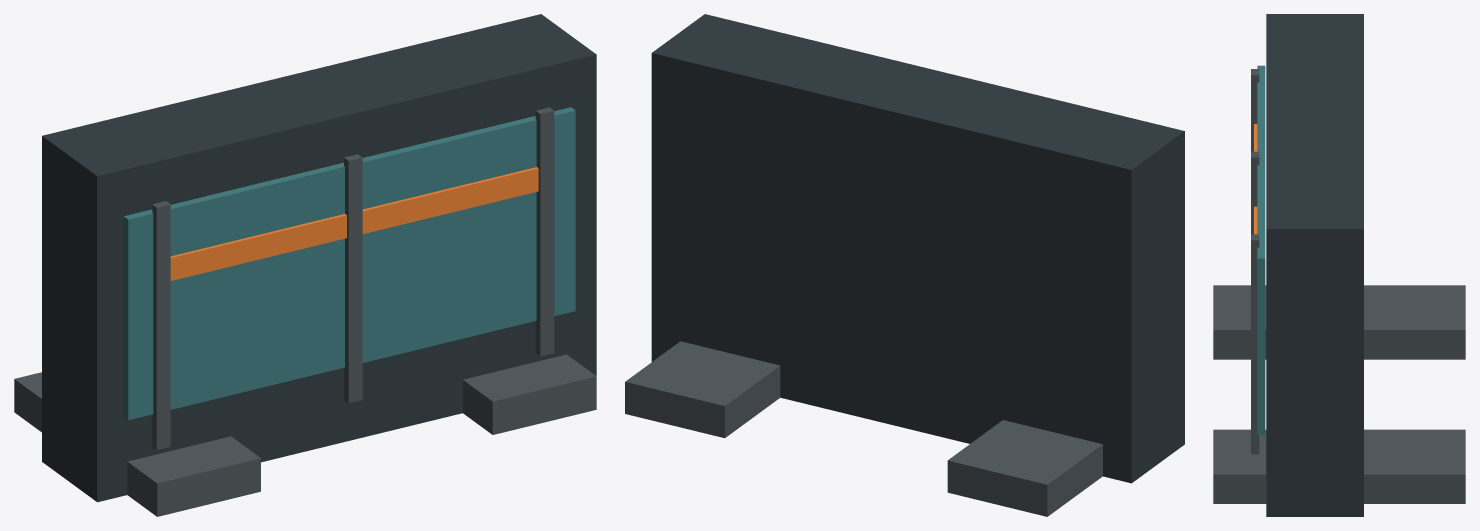
The model's file is barricade-lod0.glb.
3 views of the same model, side by side, from view 1: azimuth 30°, elevation 25°; view 2: azimuth 150°, elevation 25°; view 3: azimuth 270°, elevation 25° (orthographic). The views are drawn at different scales.
Visible parts, largest first — view 1: static; view 2: static; view 3: static.
Boxes of the visible parts, x1,y1,x2,y2 form: static: (14,14,596,516); static: (625,14,1184,516); static: (1213,14,1465,516).
Bounding box in the file's own units: 1.25 × 0.78 × 0.62.
